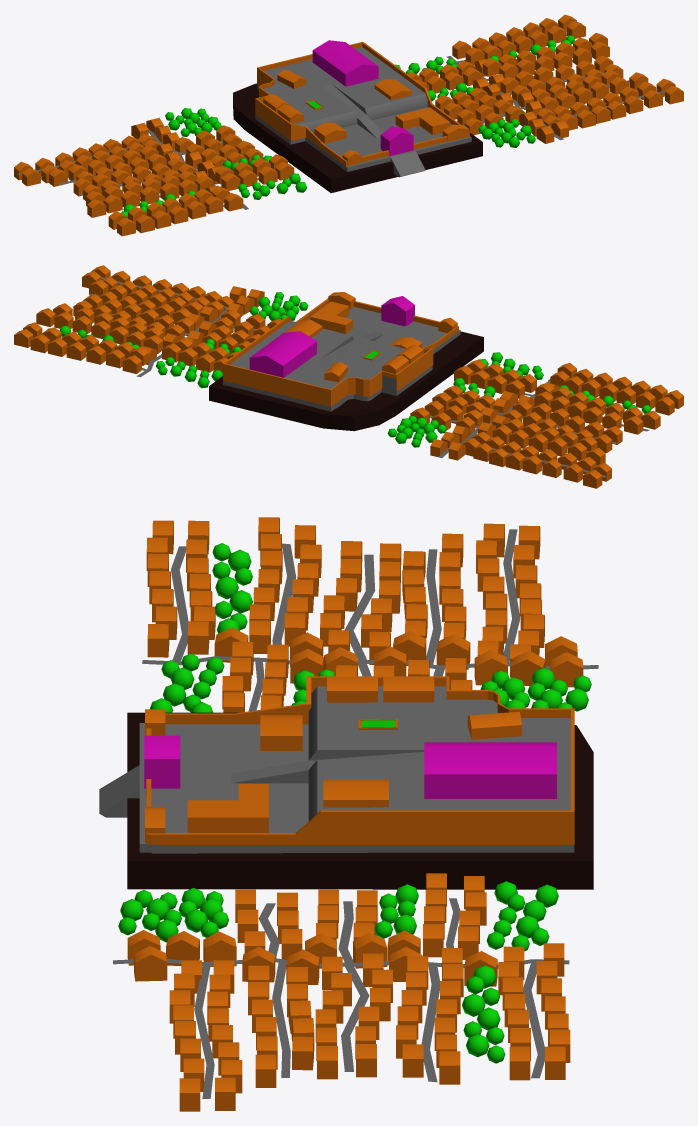
Rendered from blockout1trueTRUEcsale.fbx.
3 renders of one model, top to bottom at view 1: azimuth 30°, elevation 25°; view 2: azimuth 150°, elevation 25°; view 3: azimuth 270°, elevation 25°, orthographic. The views are drawn at different scales.
Parts seen in each view (by area): view 1: pCube1, pCube14, pCube10, pCube5, pCube6, pCube2, pCube7, pCube8, pCube156, pCube1301, pCube4, pCube16; view 2: pCube1, pCube14, pCube10, pCube5, pCube6, pCube2, pCube16, pCube7, pCube1301, pCube156; view 3: pCube1, pCube14, pCube10, pCube5, pCube1301, pCube16, pCube6, pCube2, pCube7, pCube8, pCube156, pCube155 (+4 smaller).
Boxes of the visible parts, x1=… form: pCube1: x1=255, y1=47, x2=471, y2=177; pCube14: x1=233, y1=83, x2=482, y2=192; pCube10: x1=255, y1=41, x2=469, y2=166; pCube5: x1=312, y1=40, x2=378, y2=86; pCube6: x1=395, y1=107, x2=450, y2=135; pCube2: x1=380, y1=126, x2=413, y2=155; pCube7: x1=374, y1=78, x2=412, y2=100; pCube8: x1=314, y1=122, x2=346, y2=143; pCube156: x1=277, y1=69, x2=306, y2=88; pCube1301: x1=442, y1=34, x2=665, y2=140; pCube4: x1=442, y1=124, x2=469, y2=141; pCube16: x1=18, y1=129, x2=258, y2=209; pCube1: x1=223, y1=307, x2=460, y2=411; pCube14: x1=209, y1=331, x2=483, y2=431; pCube10: x1=223, y1=298, x2=458, y2=406; pCube5: x1=249, y1=331, x2=316, y2=377; pCube6: x1=310, y1=301, x2=353, y2=333; pCube2: x1=381, y1=296, x2=414, y2=326; pCube16: x1=430, y1=379, x2=649, y2=477; pCube7: x1=284, y1=320, x2=322, y2=337; pCube1301: x1=86, y1=277, x2=256, y2=377; pCube156: x1=324, y1=361, x2=347, y2=382; pCube1: x1=99, y1=686, x2=574, y2=853; pCube14: x1=127, y1=712, x2=593, y2=889; pCube10: x1=146, y1=676, x2=574, y2=844; pCube5: x1=424, y1=742, x2=556, y2=798; pCube1301: x1=113, y1=898, x2=569, y2=1098; pCube16: x1=142, y1=529, x2=598, y2=711; pCube6: x1=187, y1=784, x2=268, y2=832; pCube2: x1=144, y1=735, x2=180, y2=788; pCube7: x1=323, y1=779, x2=388, y2=807; pCube8: x1=260, y1=715, x2=302, y2=750; pCube156: x1=467, y1=711, x2=521, y2=739; pCube155: x1=383, y1=677, x2=434, y2=702.
Bounding box in the file's own units: 1670 × 152 × 618.
